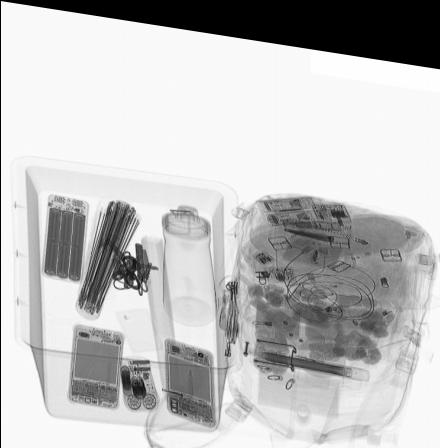Knife: (134, 237, 152, 279)
